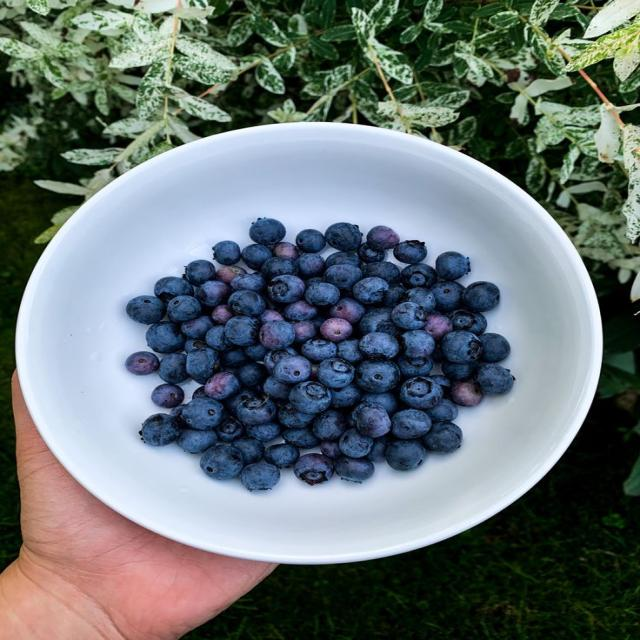blueberry: (200, 443, 243, 480), (355, 361, 400, 392), (400, 377, 443, 409), (352, 402, 391, 437), (289, 381, 331, 413), (182, 398, 224, 429), (146, 321, 185, 353), (423, 421, 462, 453), (386, 440, 426, 471), (441, 331, 481, 362), (141, 414, 179, 446), (294, 454, 333, 485), (392, 409, 432, 439), (475, 364, 514, 394), (187, 348, 219, 384), (273, 355, 312, 384), (240, 462, 279, 491), (127, 296, 166, 324), (317, 359, 354, 388), (462, 282, 499, 311), (267, 275, 305, 303), (259, 320, 295, 349), (359, 333, 399, 359), (325, 223, 362, 251), (225, 316, 259, 346), (237, 398, 276, 424), (249, 218, 286, 245), (313, 410, 346, 440), (228, 291, 266, 317), (339, 428, 373, 457), (436, 252, 470, 281), (205, 372, 240, 400), (392, 302, 427, 330), (178, 428, 217, 453), (154, 277, 193, 302), (335, 457, 374, 482), (329, 298, 366, 324), (431, 282, 464, 311), (400, 330, 434, 358), (448, 310, 486, 335), (353, 277, 388, 304), (195, 281, 230, 307), (159, 353, 188, 384), (325, 265, 362, 289), (301, 338, 338, 362), (400, 264, 437, 288), (278, 404, 315, 428), (265, 443, 299, 469), (167, 296, 201, 322), (480, 333, 510, 362), (261, 257, 297, 281), (264, 348, 297, 374), (234, 437, 264, 465), (451, 381, 483, 407), (360, 308, 392, 334), (305, 282, 339, 306), (362, 262, 399, 284), (423, 312, 452, 340), (241, 244, 272, 270), (320, 318, 353, 342), (362, 392, 398, 414), (185, 260, 215, 286), (403, 288, 436, 311), (126, 352, 159, 375), (397, 356, 433, 377), (205, 325, 233, 352), (331, 384, 362, 408), (367, 226, 399, 249), (394, 241, 426, 264), (296, 229, 326, 253), (283, 428, 319, 448), (427, 399, 458, 422), (181, 316, 213, 338), (217, 417, 245, 442), (283, 300, 318, 320), (226, 389, 254, 414), (296, 254, 325, 277), (263, 376, 292, 399), (237, 363, 266, 386), (338, 339, 364, 364), (230, 274, 266, 292), (213, 241, 240, 265), (246, 422, 280, 441), (367, 435, 390, 462), (215, 266, 246, 285), (220, 348, 247, 369), (358, 243, 386, 263), (383, 283, 406, 307), (326, 252, 360, 268), (293, 321, 317, 343), (378, 321, 404, 339), (273, 242, 299, 260), (212, 305, 233, 324), (320, 441, 342, 459), (423, 374, 452, 387), (170, 404, 186, 427), (245, 345, 266, 362), (184, 338, 206, 353), (260, 310, 284, 322), (432, 344, 445, 363), (192, 385, 208, 399), (307, 276, 324, 287), (311, 316, 324, 330)
